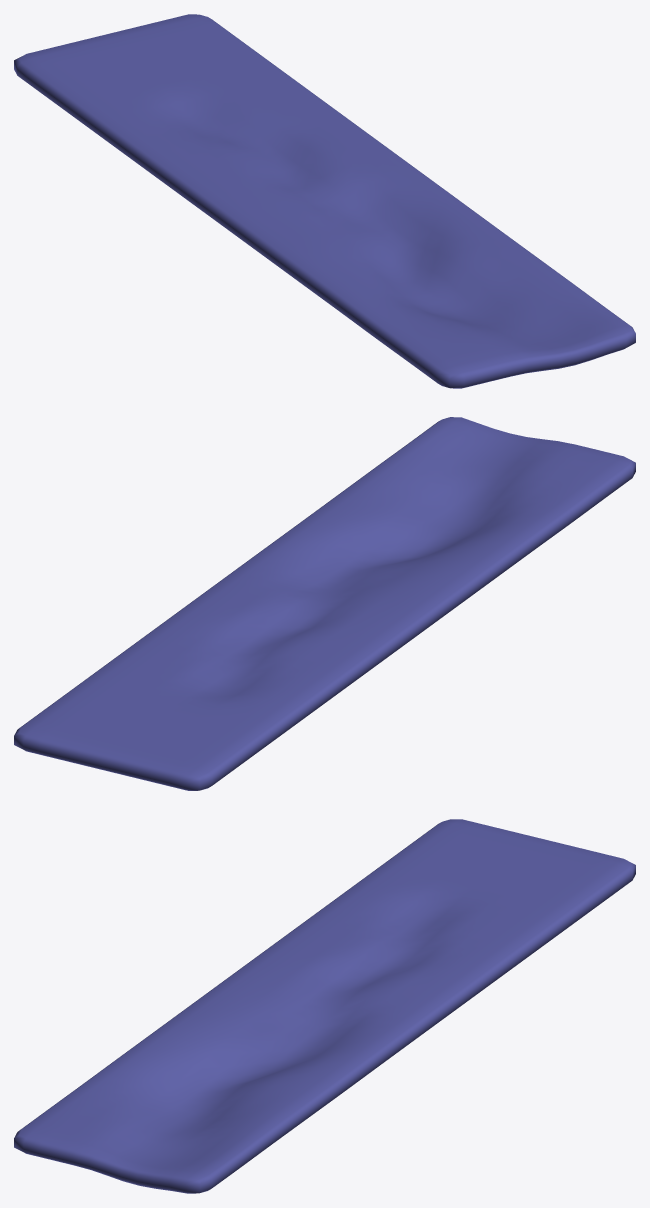
File: Ground.fbx
3 views of the same model, one above another, from view 1: azimuth 30°, elevation 25°; view 2: azimuth 150°, elevation 25°; view 3: azimuth 330°, elevation 25° (orthographic).
Parts seen in each view (by area): view 1: ground_GEO; view 2: ground_GEO; view 3: ground_GEO.
Boxes of the visible parts, bbox=[...] form: ground_GEO: bbox=[14, 14, 635, 388]; ground_GEO: bbox=[14, 417, 635, 790]; ground_GEO: bbox=[14, 819, 635, 1193].
Size of the model in its own units: 28.17 by 3.72 by 110.
